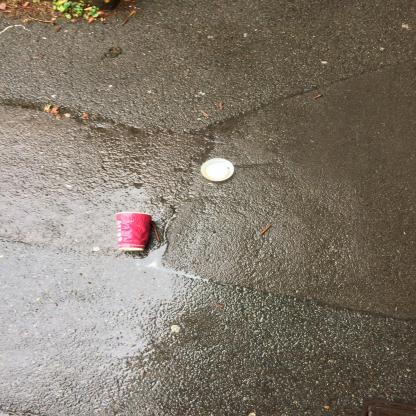karton: (117, 211, 152, 251)
plastik: (200, 158, 234, 182)
